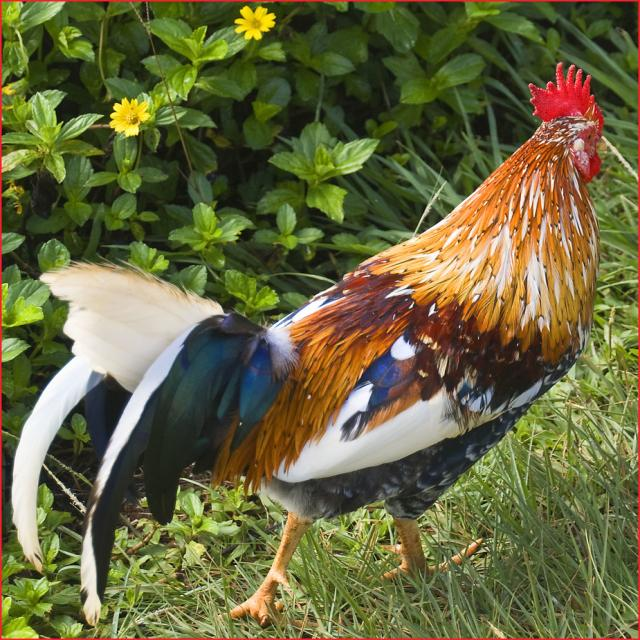Chicken: (0, 55, 614, 634)
